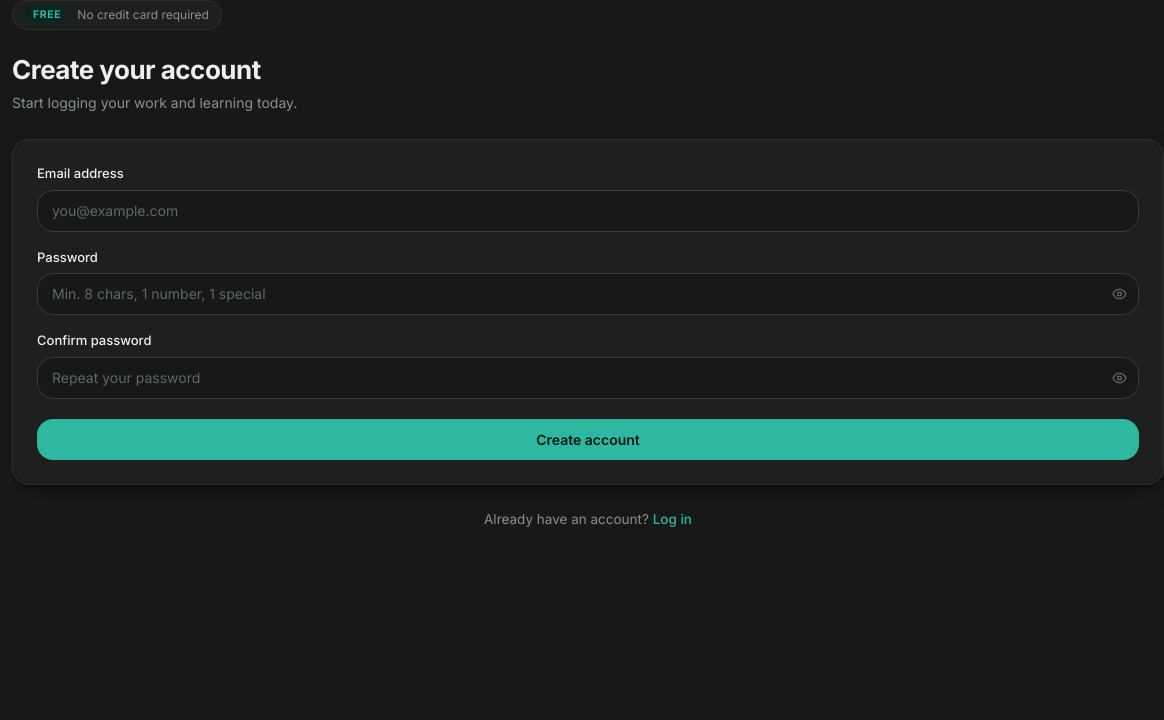
Test: RegisterForm › shows inline errors when form is submitted empty
Click the button "Create account" at (588, 439), box left=37, top=418, right=1139, bottom=460
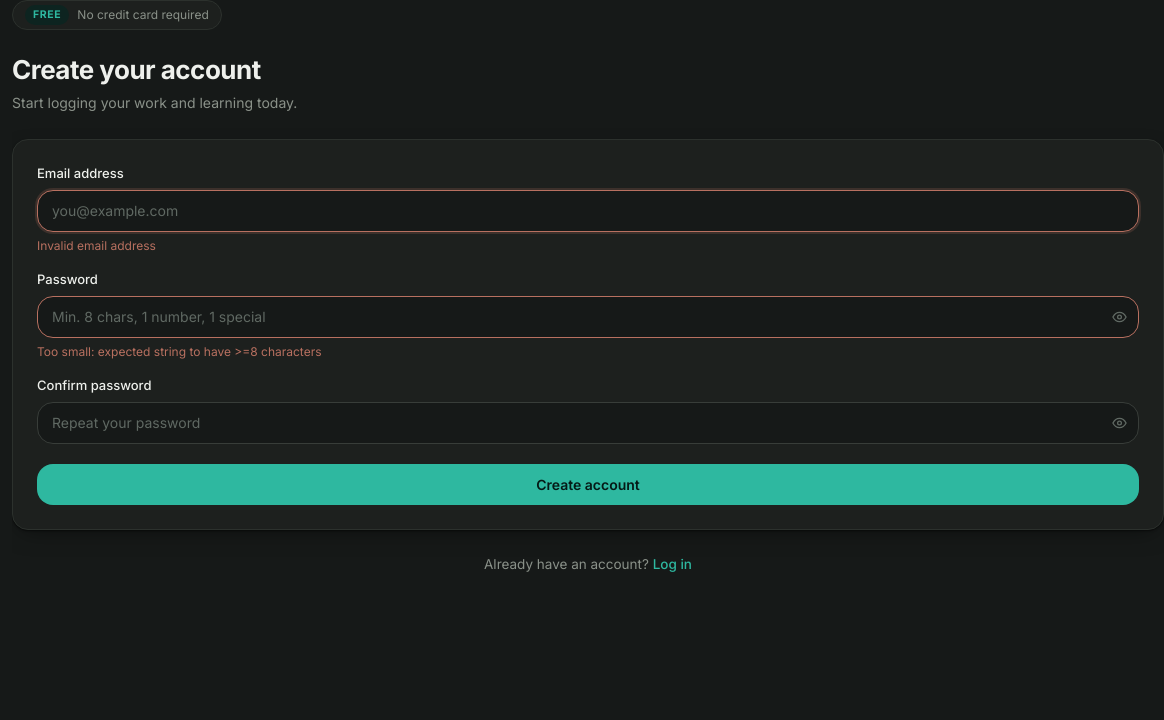
Expected: the text "Invalid email address" is shown, left=37, top=238, right=156, bottom=252
